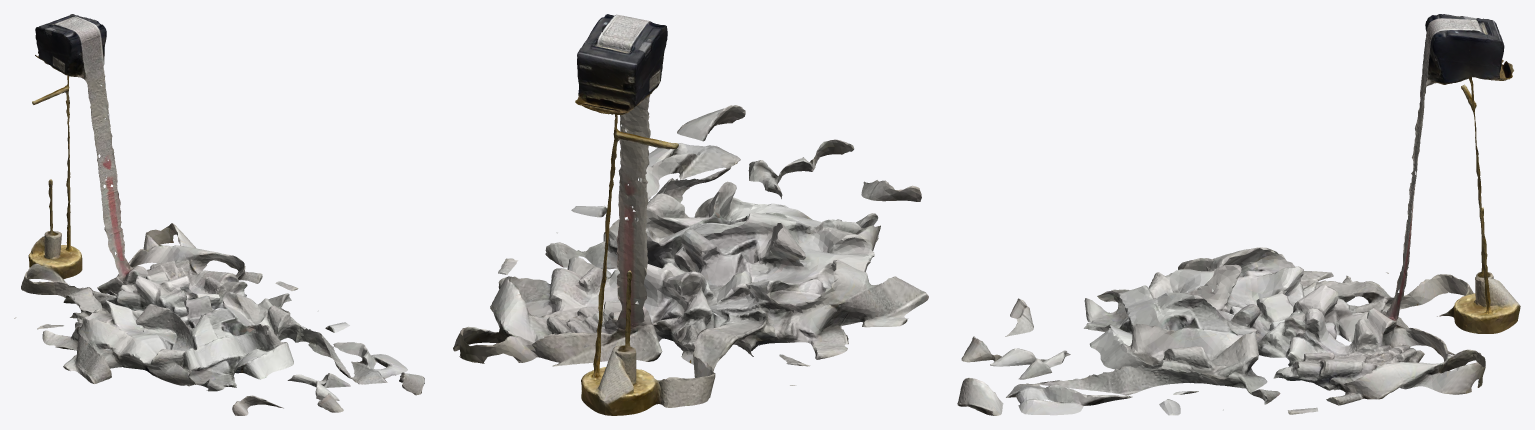
Rendered from Print good-2048.glb.
The picture shows the model from 3 angles, left to right: view 1: azimuth 30°, elevation 25°; view 2: azimuth 150°, elevation 25°; view 3: azimuth 270°, elevation 25°; orthographic projection. The views are drawn at different scales.
Size of the model in its own units: 0.9546 by 0.8885 by 1.5.
Materials: 1 (1 with a texture image).
